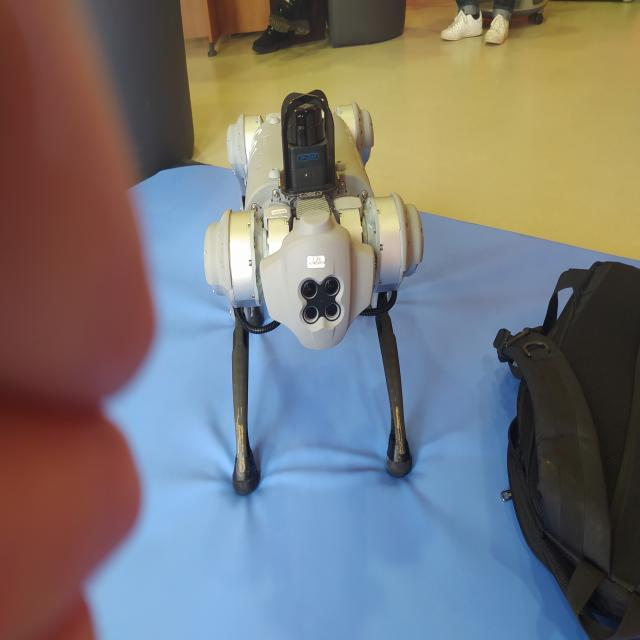unitree-go1-robot: (196, 78, 432, 513)
